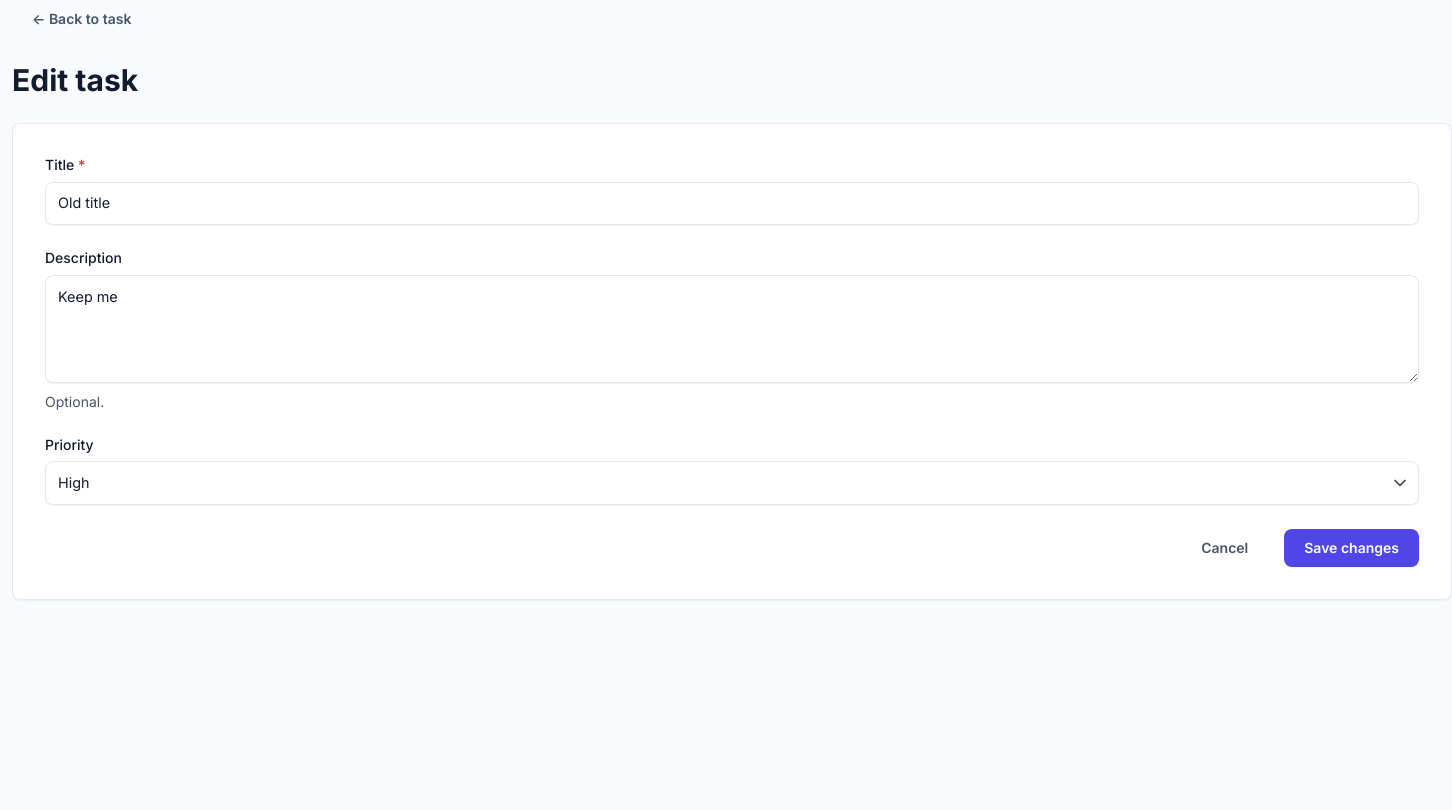
Test: TaskEditPage › blocks a blank title without spending a request
Clear the field labelled "Title *" at x=732, y=203, box [45,182,1419,225]
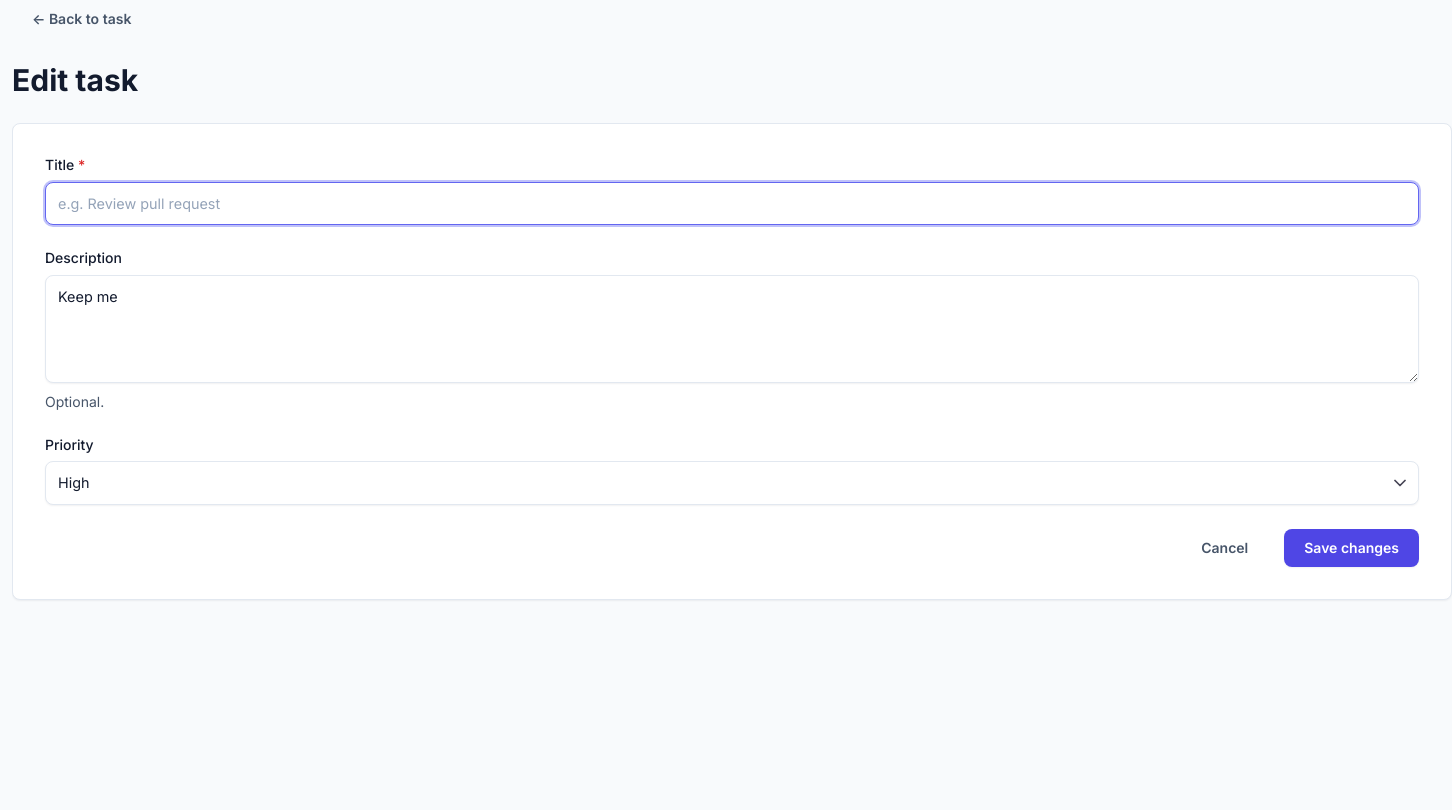
Click the button "Save changes" at x=1352, y=548, box [1284,529,1419,566]
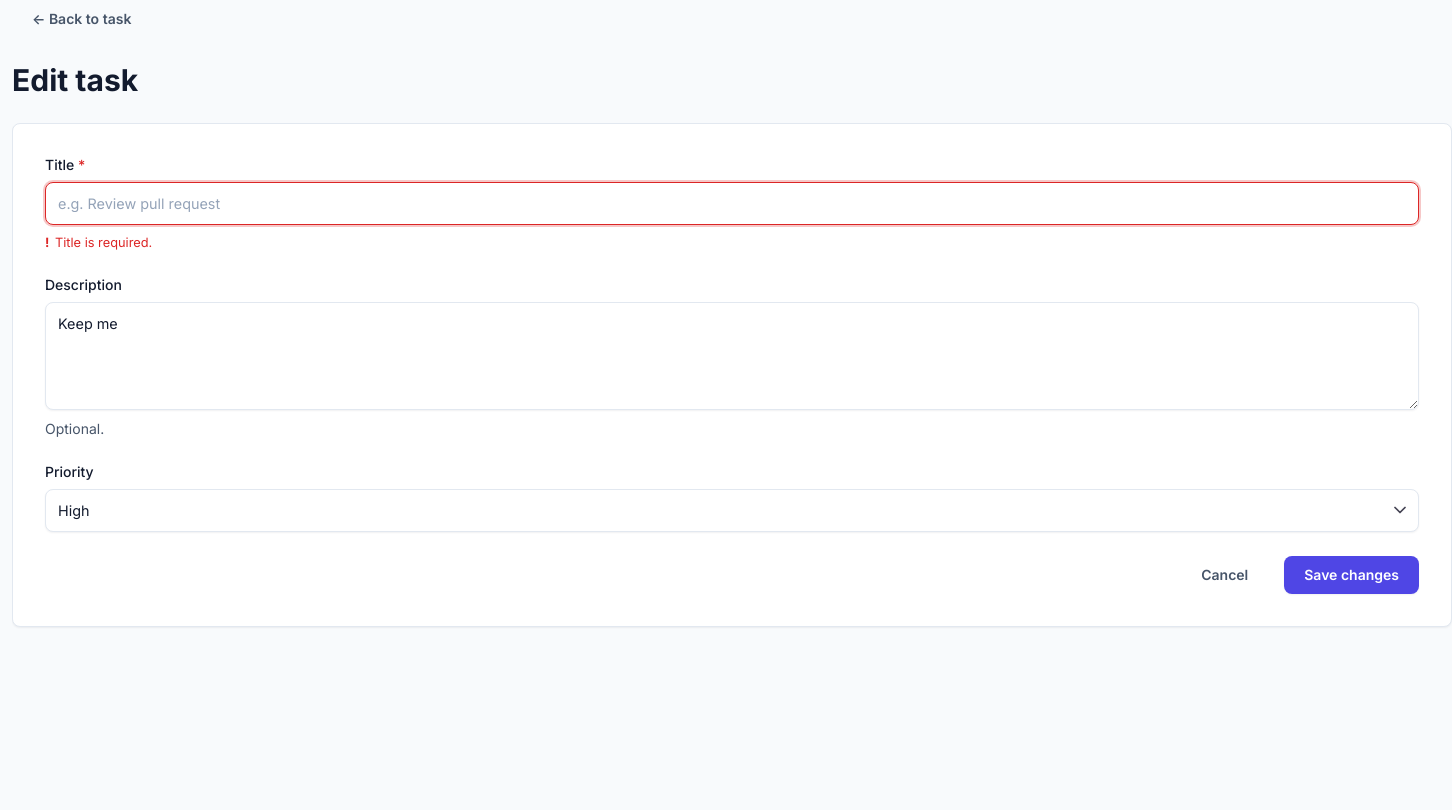
expect the text "! Title is required." is shown: met, box [45,235,152,250]
